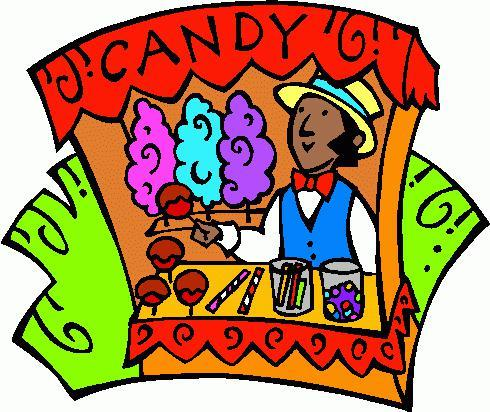person: (234, 68, 375, 269)
